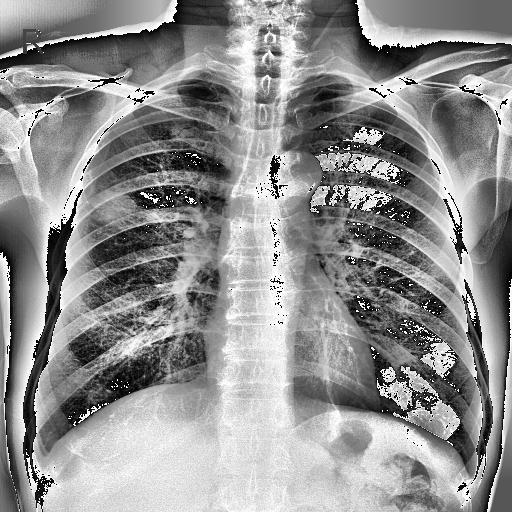0- Aortic enlargement: (272, 149, 320, 194)
10- Pleural effusion: (26, 436, 54, 480), (28, 440, 53, 474)
11- Pleural thickening: (26, 436, 54, 480), (28, 440, 53, 474), (30, 444, 52, 478)
13- Pulmonary fibrosis: (102, 194, 172, 238), (101, 208, 164, 236), (93, 190, 137, 228)
5- ILD: (86, 264, 164, 368), (388, 252, 444, 368)
8- Nodule-Mass: (90, 188, 138, 223), (90, 188, 136, 222), (396, 131, 404, 140)
